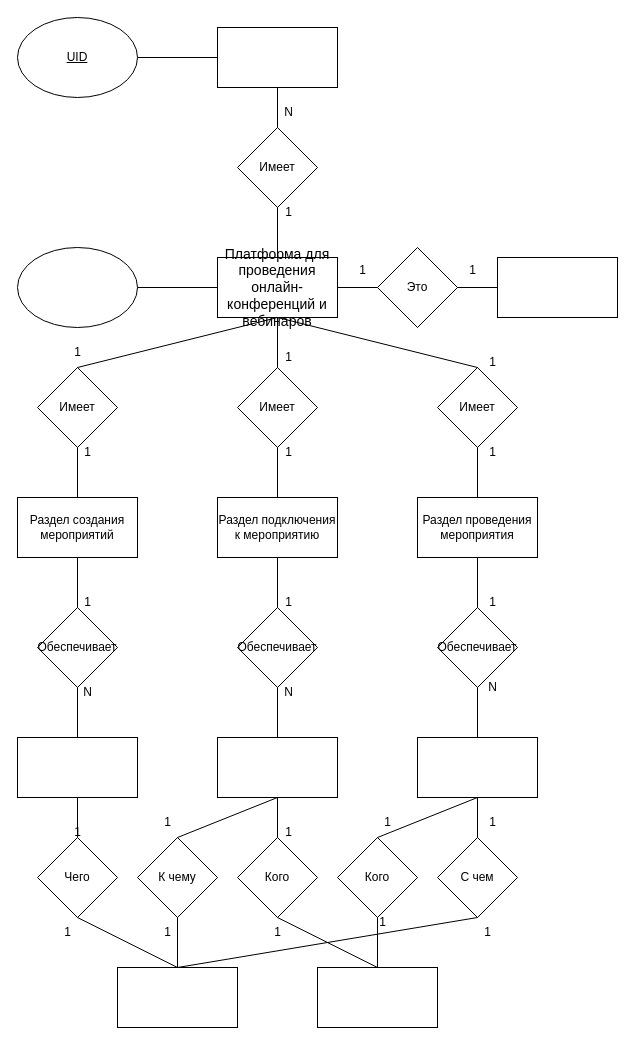
Some shapes in this 635 by 1045 pixel diagram are drawn without their labels. The centre of each missing label's shape, as x and y in pixels:
"Взаимодействие" belongs at (x=477, y=767).
"Мероприятия" belongs at (x=177, y=997).
"Подключение" belongs at (x=277, y=767).
"Пользователь" belongs at (x=277, y=57).
"Пользователя" belongs at (x=377, y=997).
"программный продукт" belongs at (x=557, y=287).
"Создание" belongs at (x=77, y=767).
"Текущие мероприятия" belongs at (x=77, y=287).
